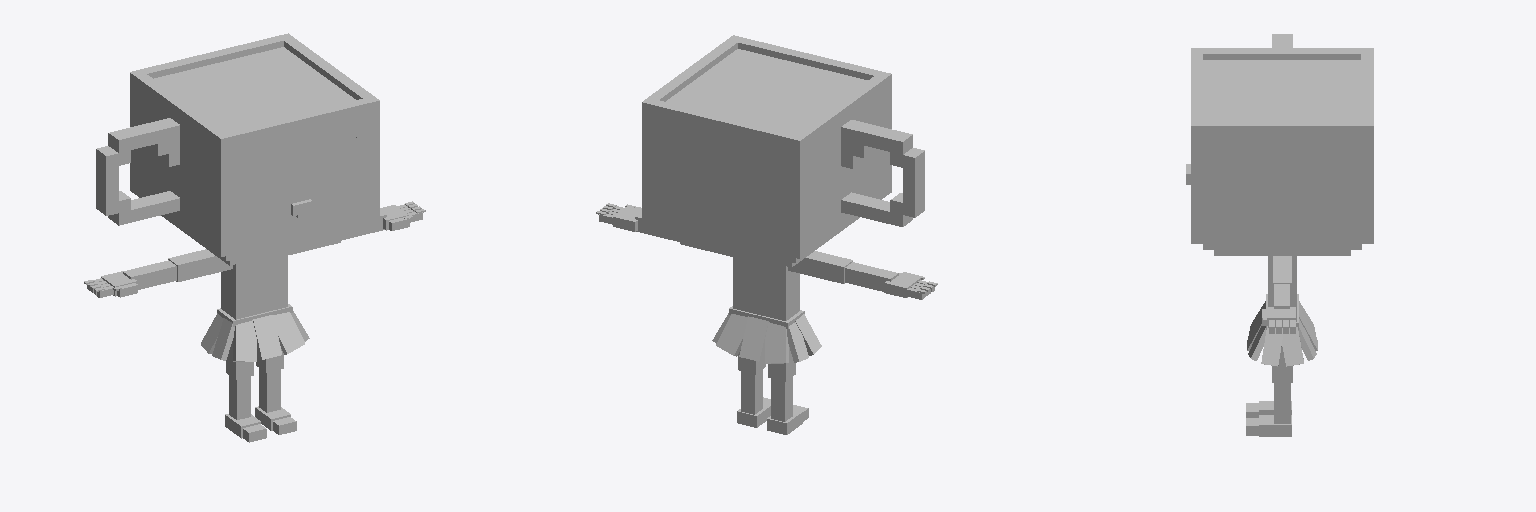
Rendered from Ballerina Cappuccina.obj.
3 views of the same model, side by side, from view 1: azimuth 30°, elevation 25°; view 2: azimuth 150°, elevation 25°; view 3: azimuth 270°, elevation 25° (orthographic).
Visible parts, largest first — view 1: Cube0041, Cube0011, Cube0161, Cube0021, Cube0051; view 2: Cube0041, Cube0011, Cube0161, Cube0021, Cube0051; view 3: Cube0041, Cube0011, Cube0161, Cube0021, Cube0051.
Part boxes in pixels (left/top/right/bottom): Cube0041: left=96, top=33, right=379, bottom=265; Cube0011: left=154, top=47, right=366, bottom=237; Cube0161: left=201, top=252, right=309, bottom=442; Cube0021: left=87, top=204, right=422, bottom=297; Cube0051: left=225, top=341, right=296, bottom=437; Cube0041: left=642, top=35, right=924, bottom=267; Cube0011: left=666, top=49, right=867, bottom=133; Cube0161: left=712, top=254, right=821, bottom=434; Cube0021: left=599, top=206, right=934, bottom=299; Cube0051: left=737, top=347, right=808, bottom=428; Cube0041: left=1191, top=34, right=1373, bottom=255; Cube0011: left=1186, top=60, right=1360, bottom=184; Cube0161: left=1246, top=267, right=1317, bottom=436; Cube0021: left=1262, top=256, right=1296, bottom=333; Cube0051: left=1246, top=347, right=1292, bottom=430.
Size of the model in its own units: 8.04 by 7.88 by 3.98.